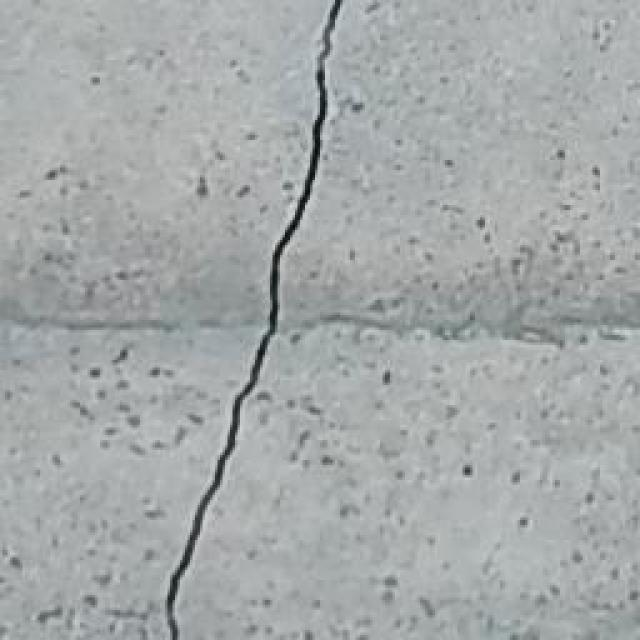concrete-crack: (168, 0, 345, 640)
